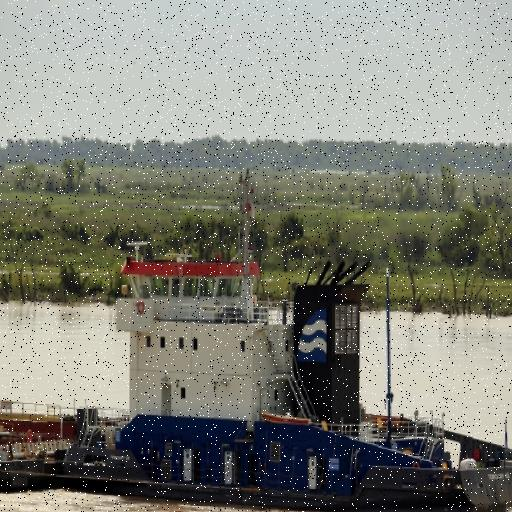tugboat: (1, 168, 512, 512)
